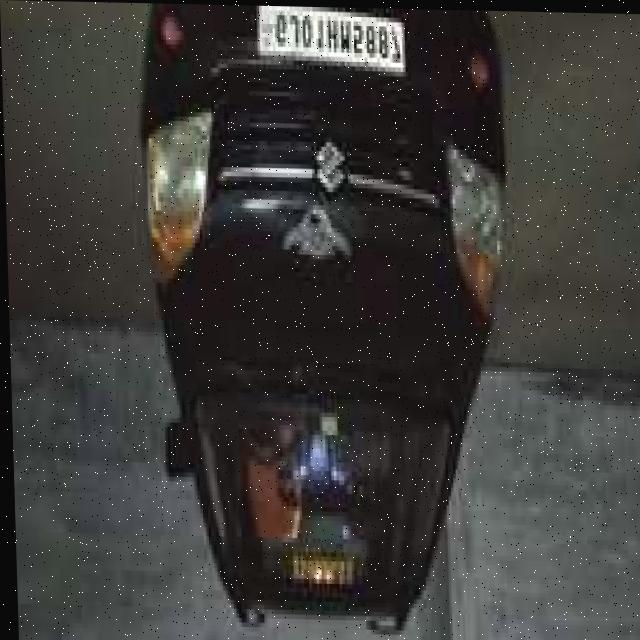plate: (257, 5, 403, 75)
